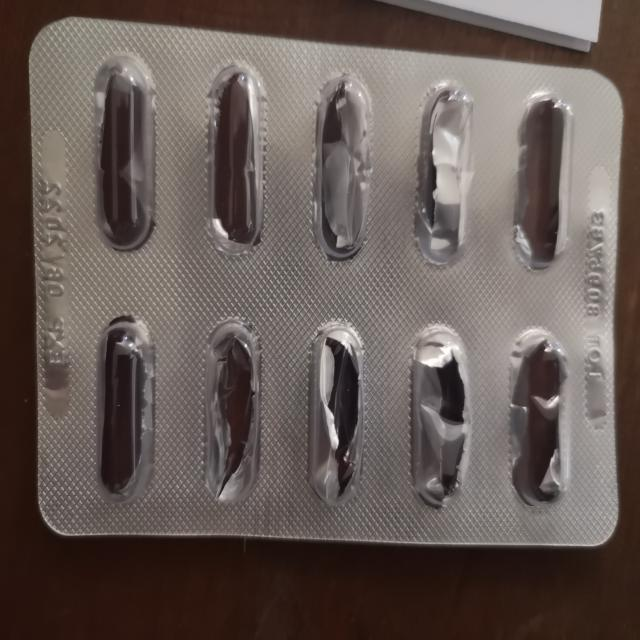Empty: (81, 40, 168, 258), (196, 51, 279, 262), (86, 307, 170, 508), (194, 302, 274, 510), (497, 322, 581, 520), (398, 316, 481, 516), (297, 311, 379, 513), (506, 81, 584, 276), (307, 63, 379, 264), (411, 70, 479, 274)
